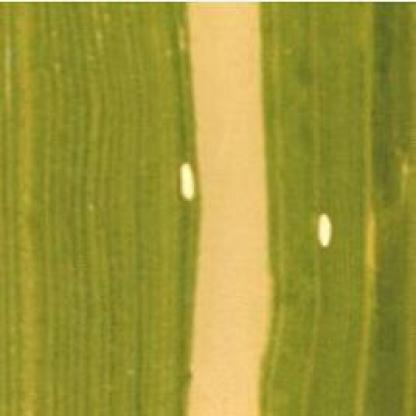whorl-maggot: (173, 156, 199, 206), (310, 211, 334, 254)
